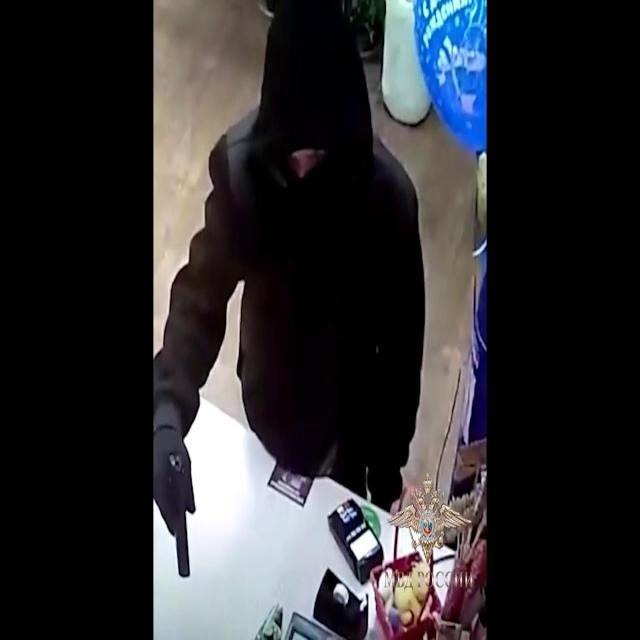pistol: (150, 440, 197, 580)
